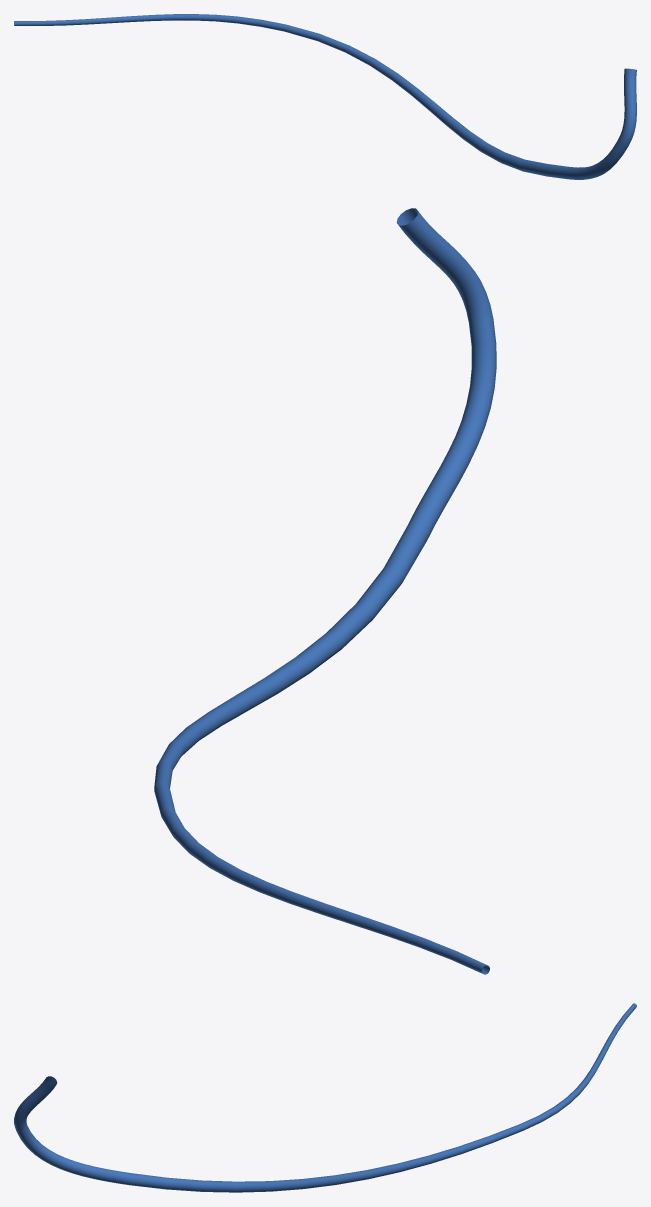
3 renders of one model, top to bottom at view 1: azimuth 30°, elevation 25°; view 2: azimuth 150°, elevation 25°; view 3: azimuth 270°, elevation 25°, orthographic. The views are drawn at different scales.
Parts seen in each view (by area): view 1: 左侧甲状腺上静脉; view 2: 左侧甲状腺上静脉; view 3: 左侧甲状腺上静脉.
Part boxes in pixels (left/top/right/bottom): 左侧甲状腺上静脉: left=14, top=14, right=636, bottom=179; 左侧甲状腺上静脉: left=154, top=208, right=496, bottom=974; 左侧甲状腺上静脉: left=14, top=1003, right=636, bottom=1192.
Size of the model in its own units: 0.0453 by 0.0181 by 0.0725.
